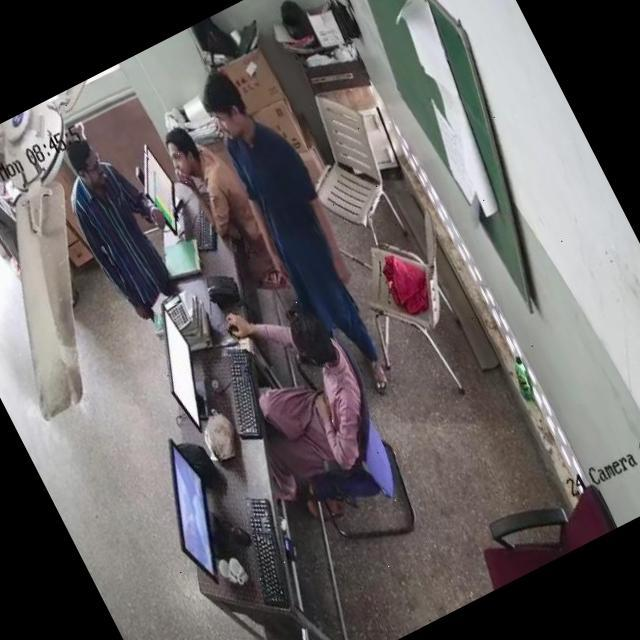person: (189, 56, 394, 396), (232, 311, 396, 499), (49, 135, 176, 306), (158, 110, 274, 266)
